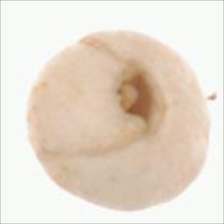L3: (116, 60, 165, 134)
L4: (27, 30, 212, 212)
